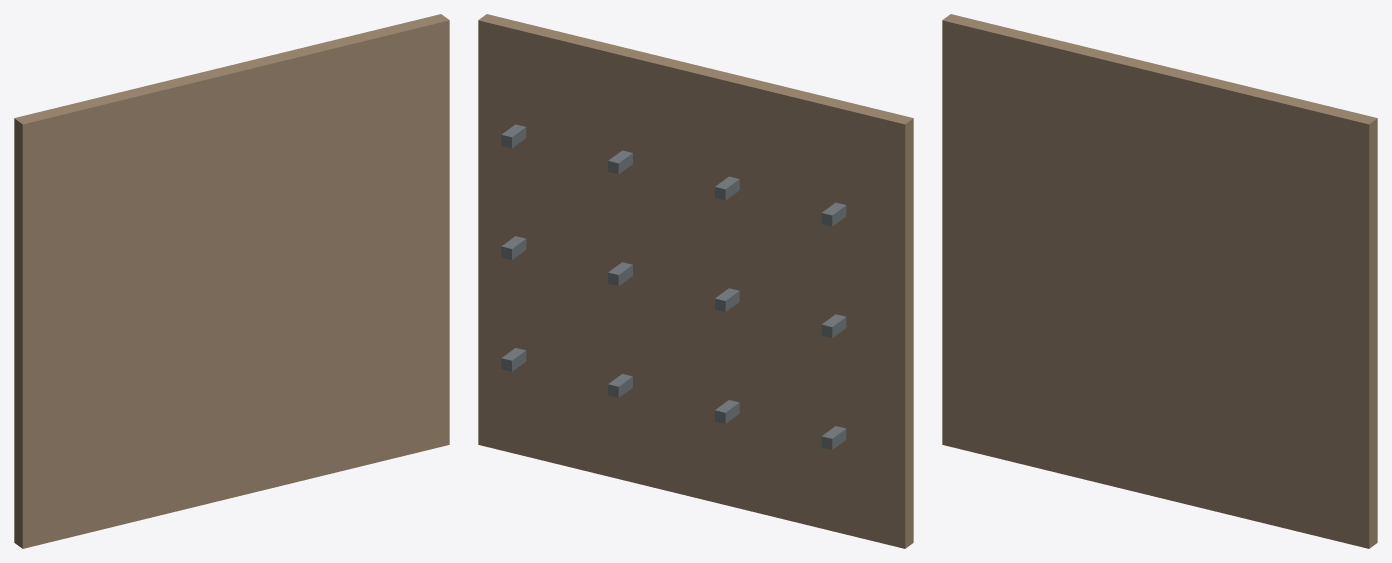
Rendered from pegboard_tools_empty.glb.
3 views of the same model, side by side, from view 1: azimuth 30°, elevation 25°; view 2: azimuth 150°, elevation 25°; view 3: azimuth 330°, elevation 25° (orthographic).
Visible parts, largest first — view 1: body; view 2: body; view 3: body.
Part boxes in pixels (left/top/right/bottom): body: left=14, top=14, right=449, bottom=548; body: left=478, top=14, right=913, bottom=548; body: left=942, top=14, right=1377, bottom=548.
Size of the model in its own units: 1 by 0.95 by 0.0925.
